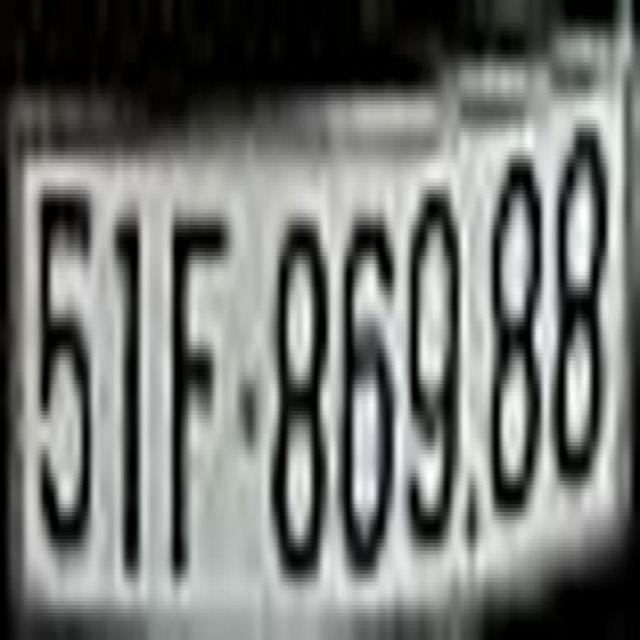1: (118, 221, 145, 566)
5: (35, 163, 94, 539)
6: (344, 205, 392, 570)
8: (272, 229, 326, 547), (493, 124, 537, 500), (563, 128, 603, 485)
9: (408, 170, 460, 554)
F: (166, 167, 231, 586)
